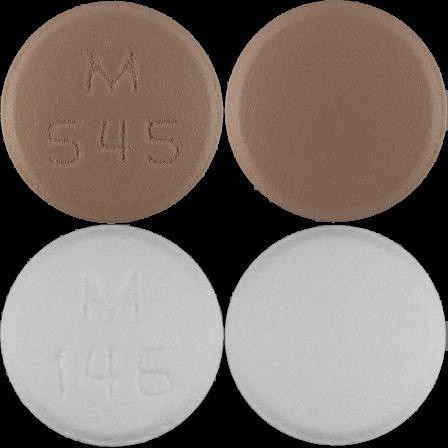51079-088: (0, 0, 224, 224)
